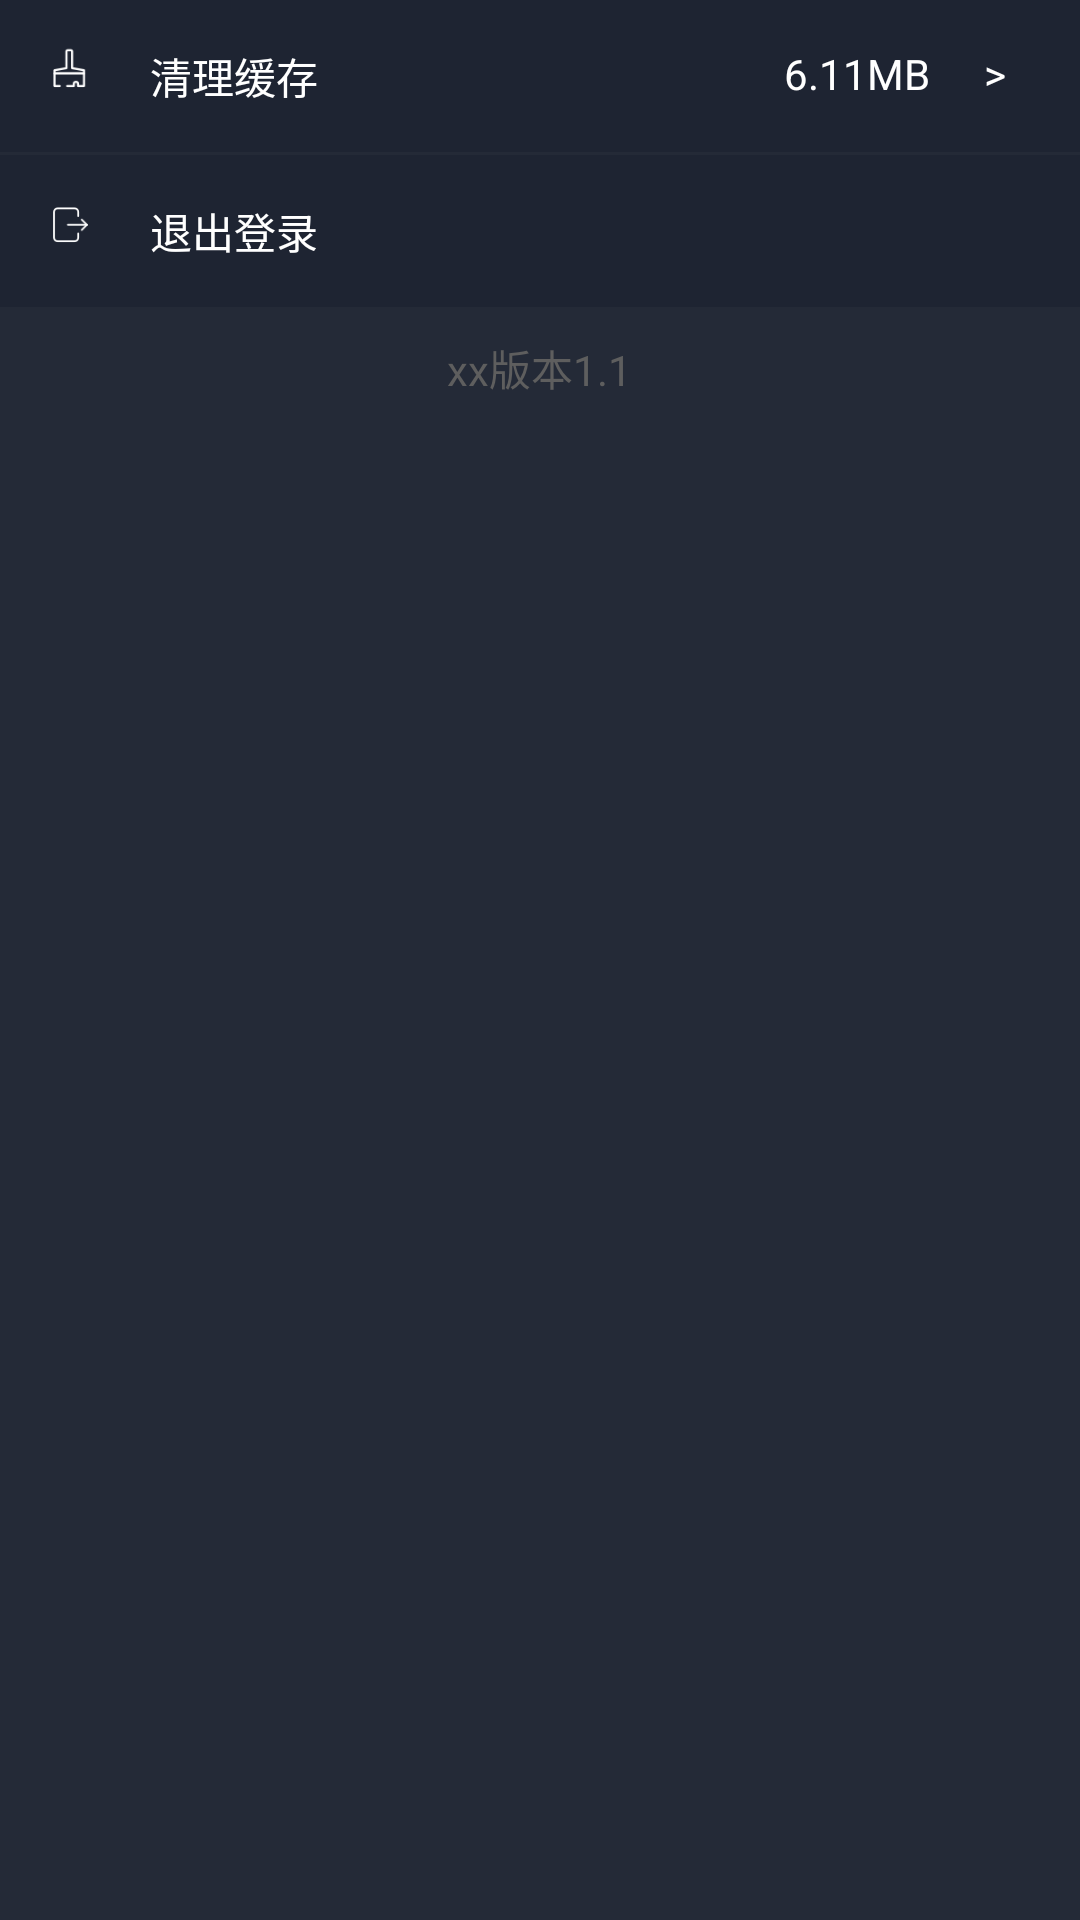

Icon click points for this 1080px x 1920px phone screenshot, format [x,y]:
setting clean: [69,67]
